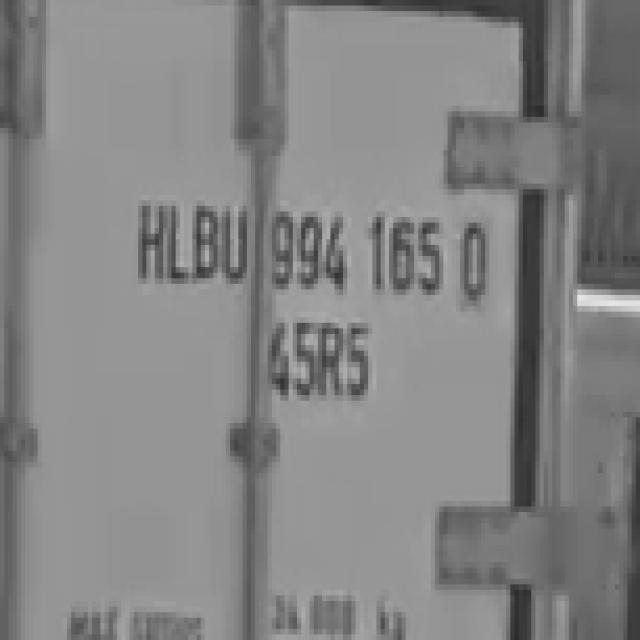dv: (453, 217, 505, 320)
owner: (122, 172, 252, 300)
serial: (260, 199, 450, 297)
size: (245, 303, 380, 401)
